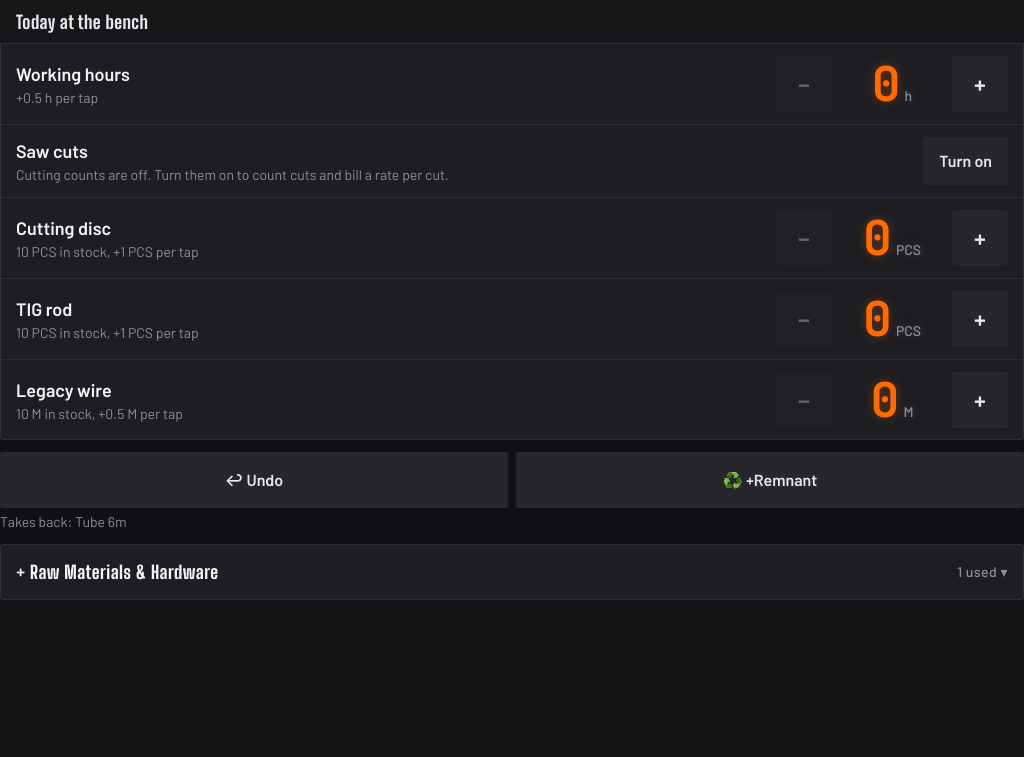
Test case: +Remnant › prompts for the length, starting at 1 m, and returns the chosen length against the newest cut
Click the button "♻️ +Remnant". click: (770, 480)
box: [516,452,1023,508]
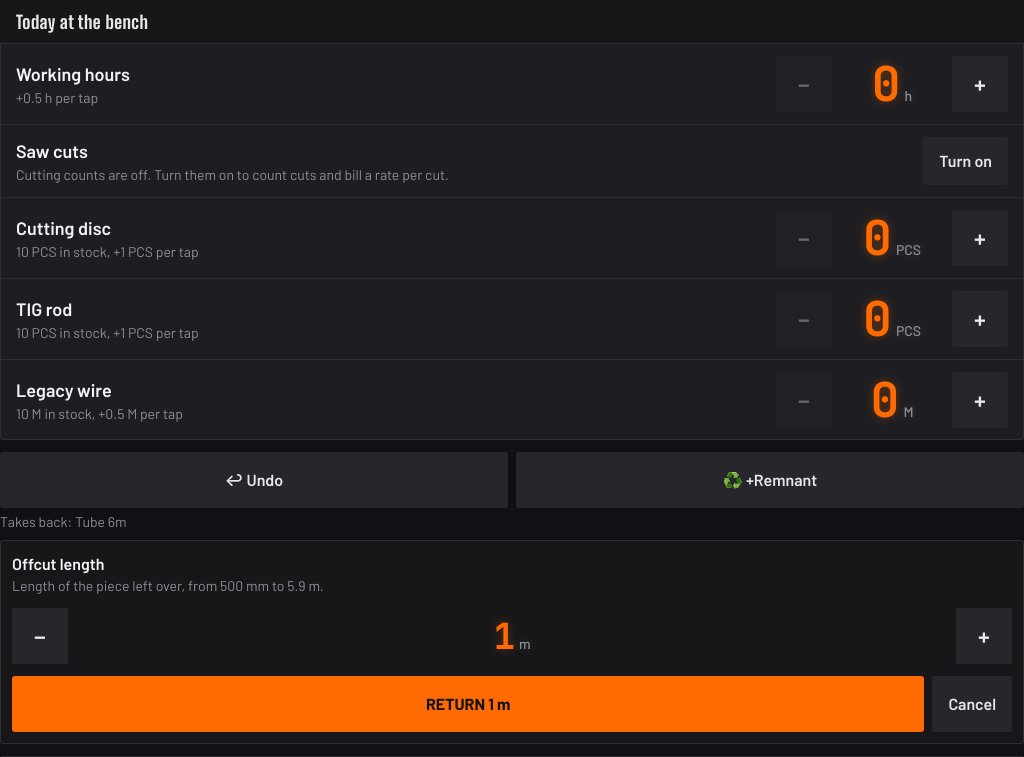
Click the button named "Longer offcut". click: (984, 636)
box: [956,608,1012,664]
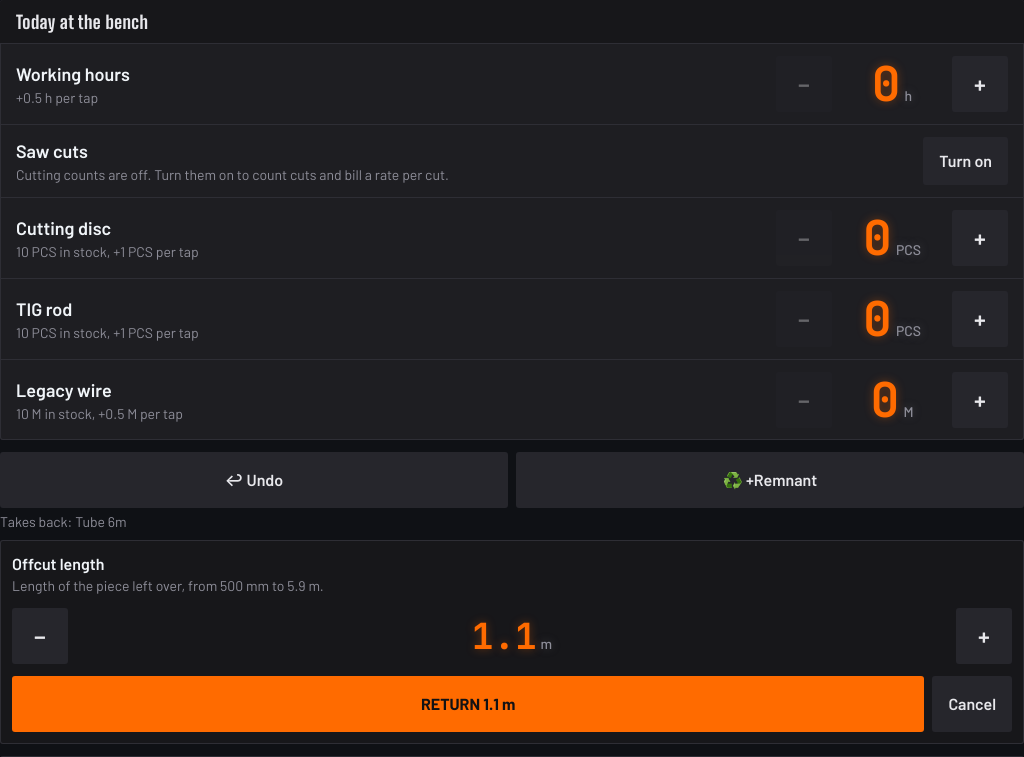
Click the button named "Longer offcut". click: (984, 636)
box: [956,608,1012,664]
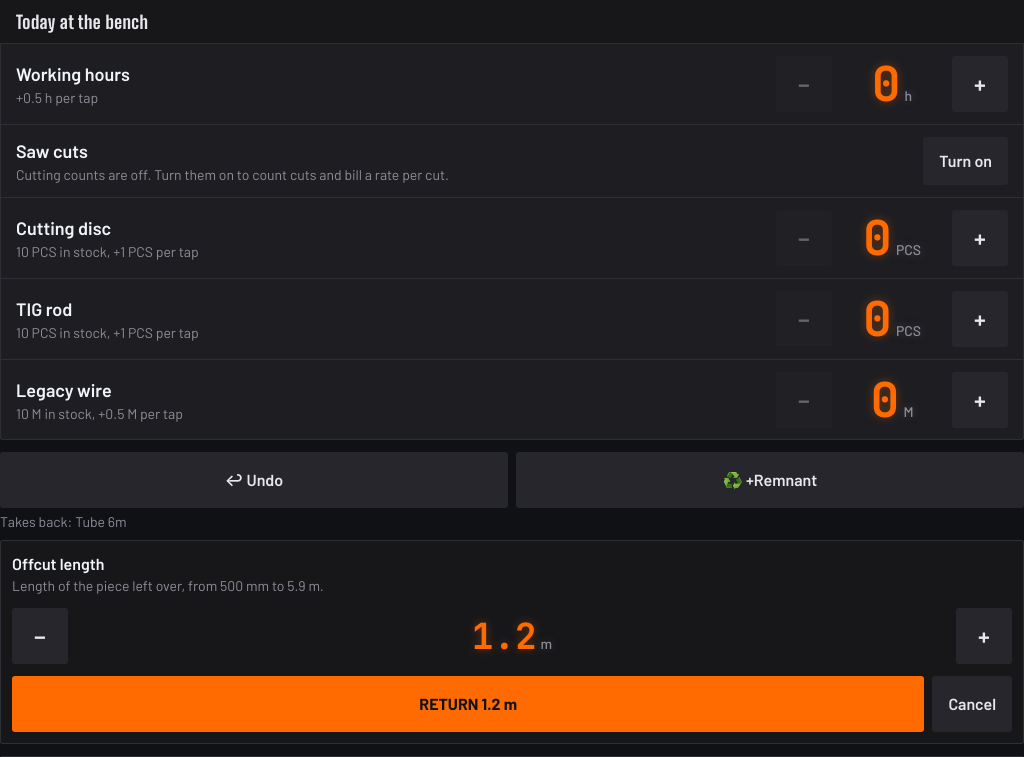
Click the button "RETURN 1.2 m". click: (468, 704)
box: [12,676,924,732]
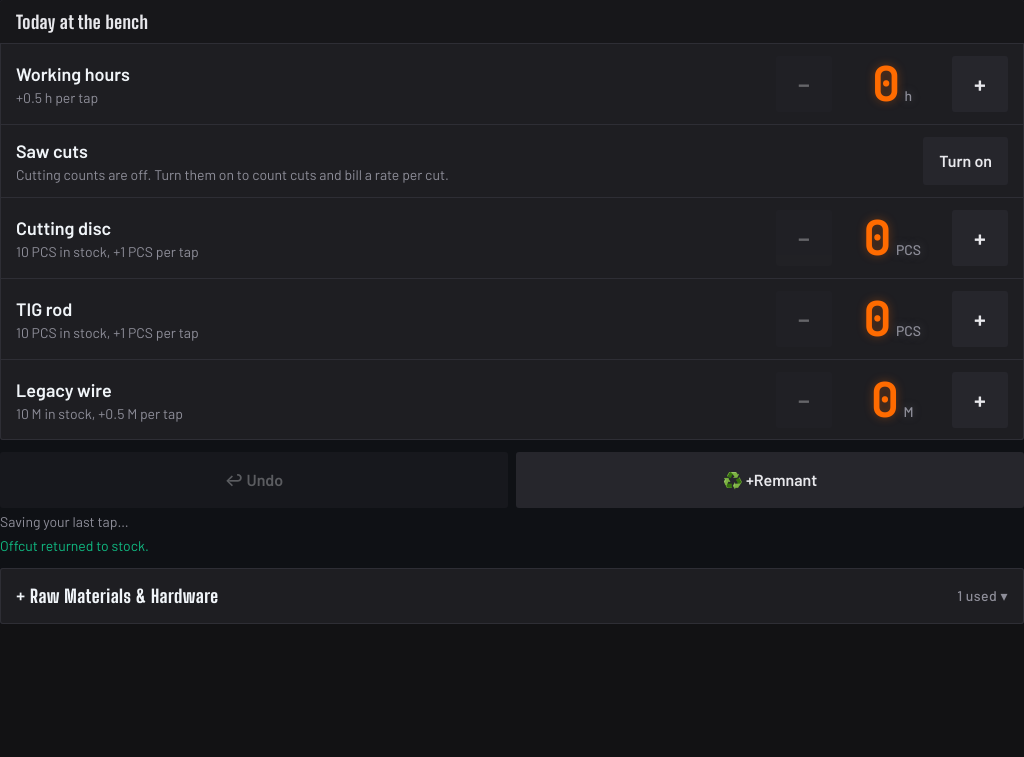
Check: the text "Offcut returned to stock." is shown, box [0,537,149,554]
